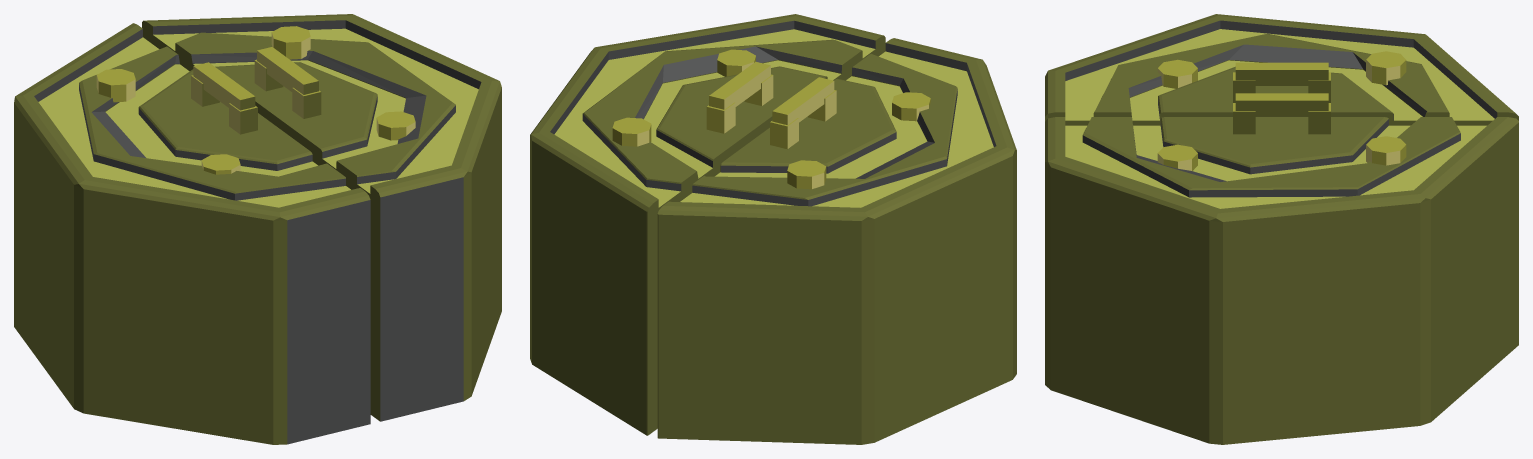
File: gold_door.fbx
3 renders of one model, left to right at view 1: azimuth 30°, elevation 25°; view 2: azimuth 150°, elevation 25°; view 3: azimuth 270°, elevation 25°, orthographic.
Parts seen in each view (by area): view 1: gold_door_panel_left, gold_door_panel_right; view 2: gold_door_panel_left, gold_door_panel_right; view 3: gold_door_panel_right, gold_door_panel_left.
Part boxes in pixels (x1,y1,x2,y2): gold_door_panel_left: (14,23,370,444); gold_door_panel_right: (142,14,501,421); gold_door_panel_left: (657,38,1016,444); gold_door_panel_right: (530,14,885,435); gold_door_panel_right: (1045,93,1518,444); gold_door_panel_left: (1045,14,1518,125).
Size of the model in its own units: 3.87 by 2.29 by 3.78.
1 material, 1 textured.
